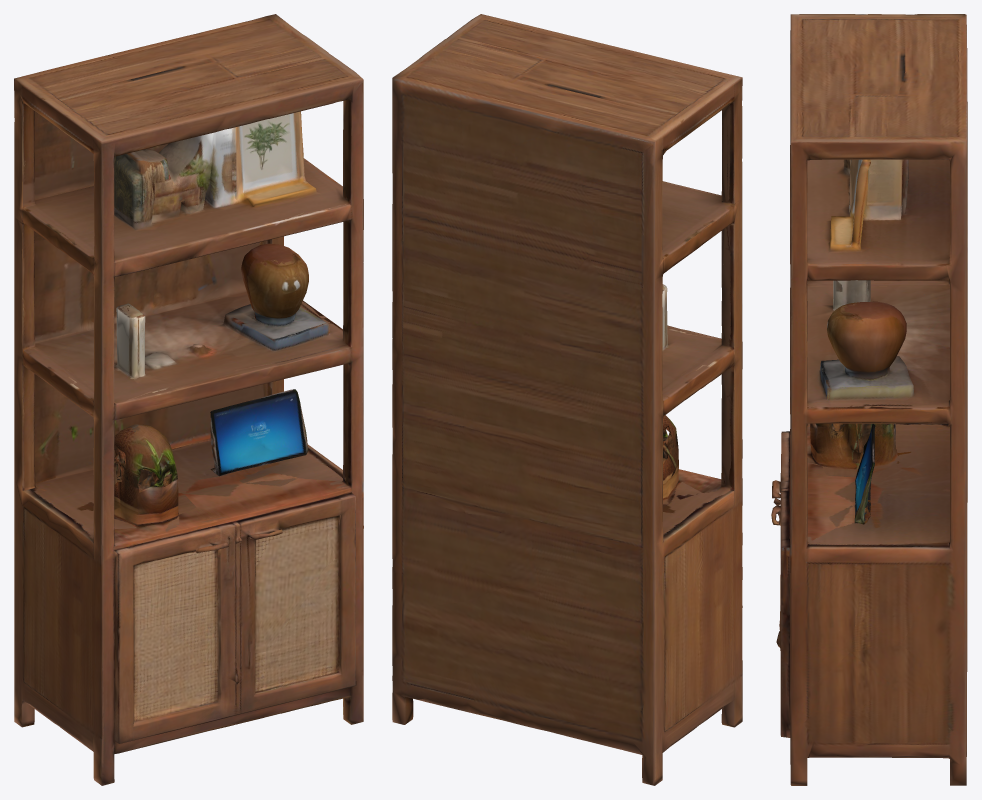
File: chair.glb
3 views of the same model, side by side, from view 1: azimuth 30°, elevation 25°; view 2: azimuth 150°, elevation 25°; view 3: azimuth 270°, elevation 25° (orthographic).
Bounding box in the file's own units: 0.855 × 2 × 0.5527.
1 material, 1 textured.
